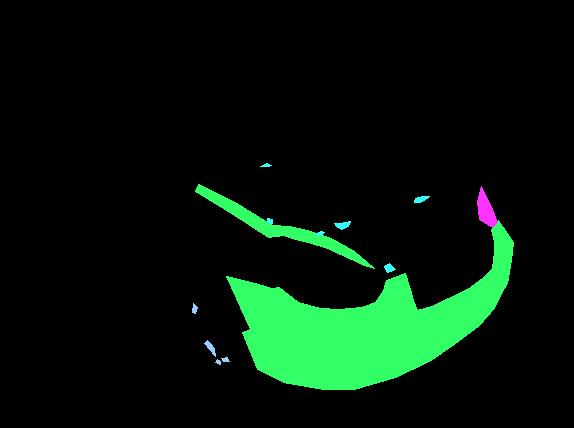Broken part: (226, 220, 513, 389), (195, 184, 374, 268)
Corrosion: (204, 340, 215, 356), (192, 303, 197, 313), (221, 357, 229, 361), (215, 359, 220, 364)
Dent: (477, 186, 497, 227)
Flaking: (334, 221, 350, 229), (384, 263, 395, 272), (414, 196, 429, 202), (314, 231, 324, 235), (260, 163, 271, 166), (266, 218, 272, 223)
